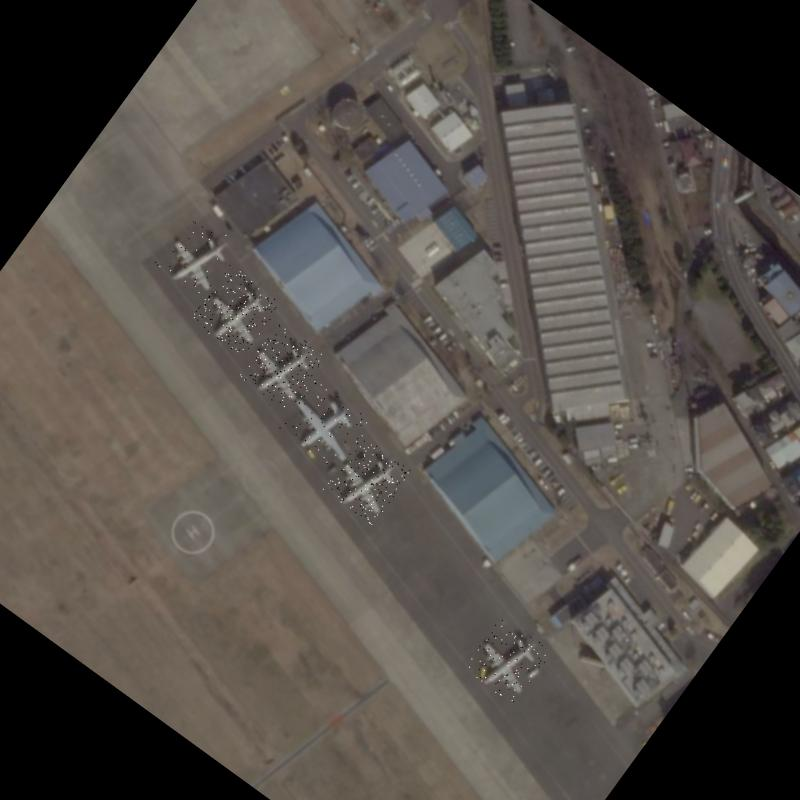A2: (274, 377, 372, 472)
A9: (149, 208, 242, 303), (189, 264, 282, 358), (462, 614, 552, 706), (322, 434, 412, 526), (238, 321, 326, 411)
